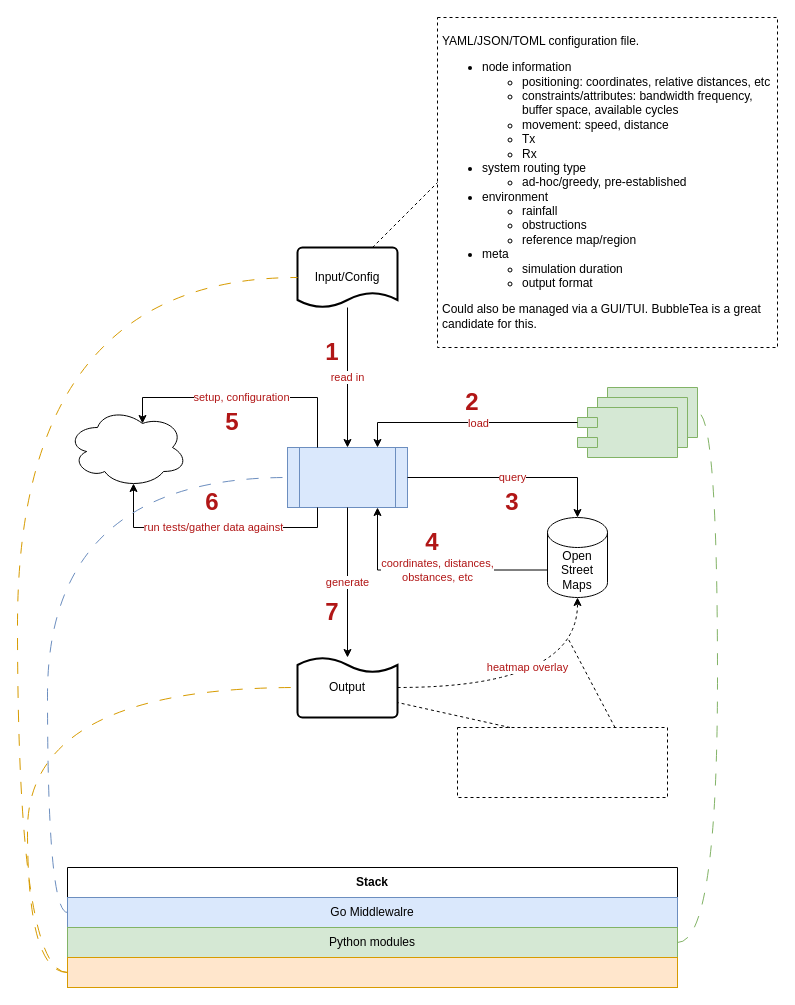
Some shapes in this 795 by 1005 pixel diagram are drawn without their labels. The shapes that lost their labels are listed below. From the top down, each one's centre as x and y in pixels, then its label:
(x=127, y=447): mininet
(x=627, y=432): Custom Modules/ Nodes
(x=562, y=762): warnings, statistics, hotspots, nodes/clusters to review
(x=372, y=972): Wails or BubbleTea+NTCharts
